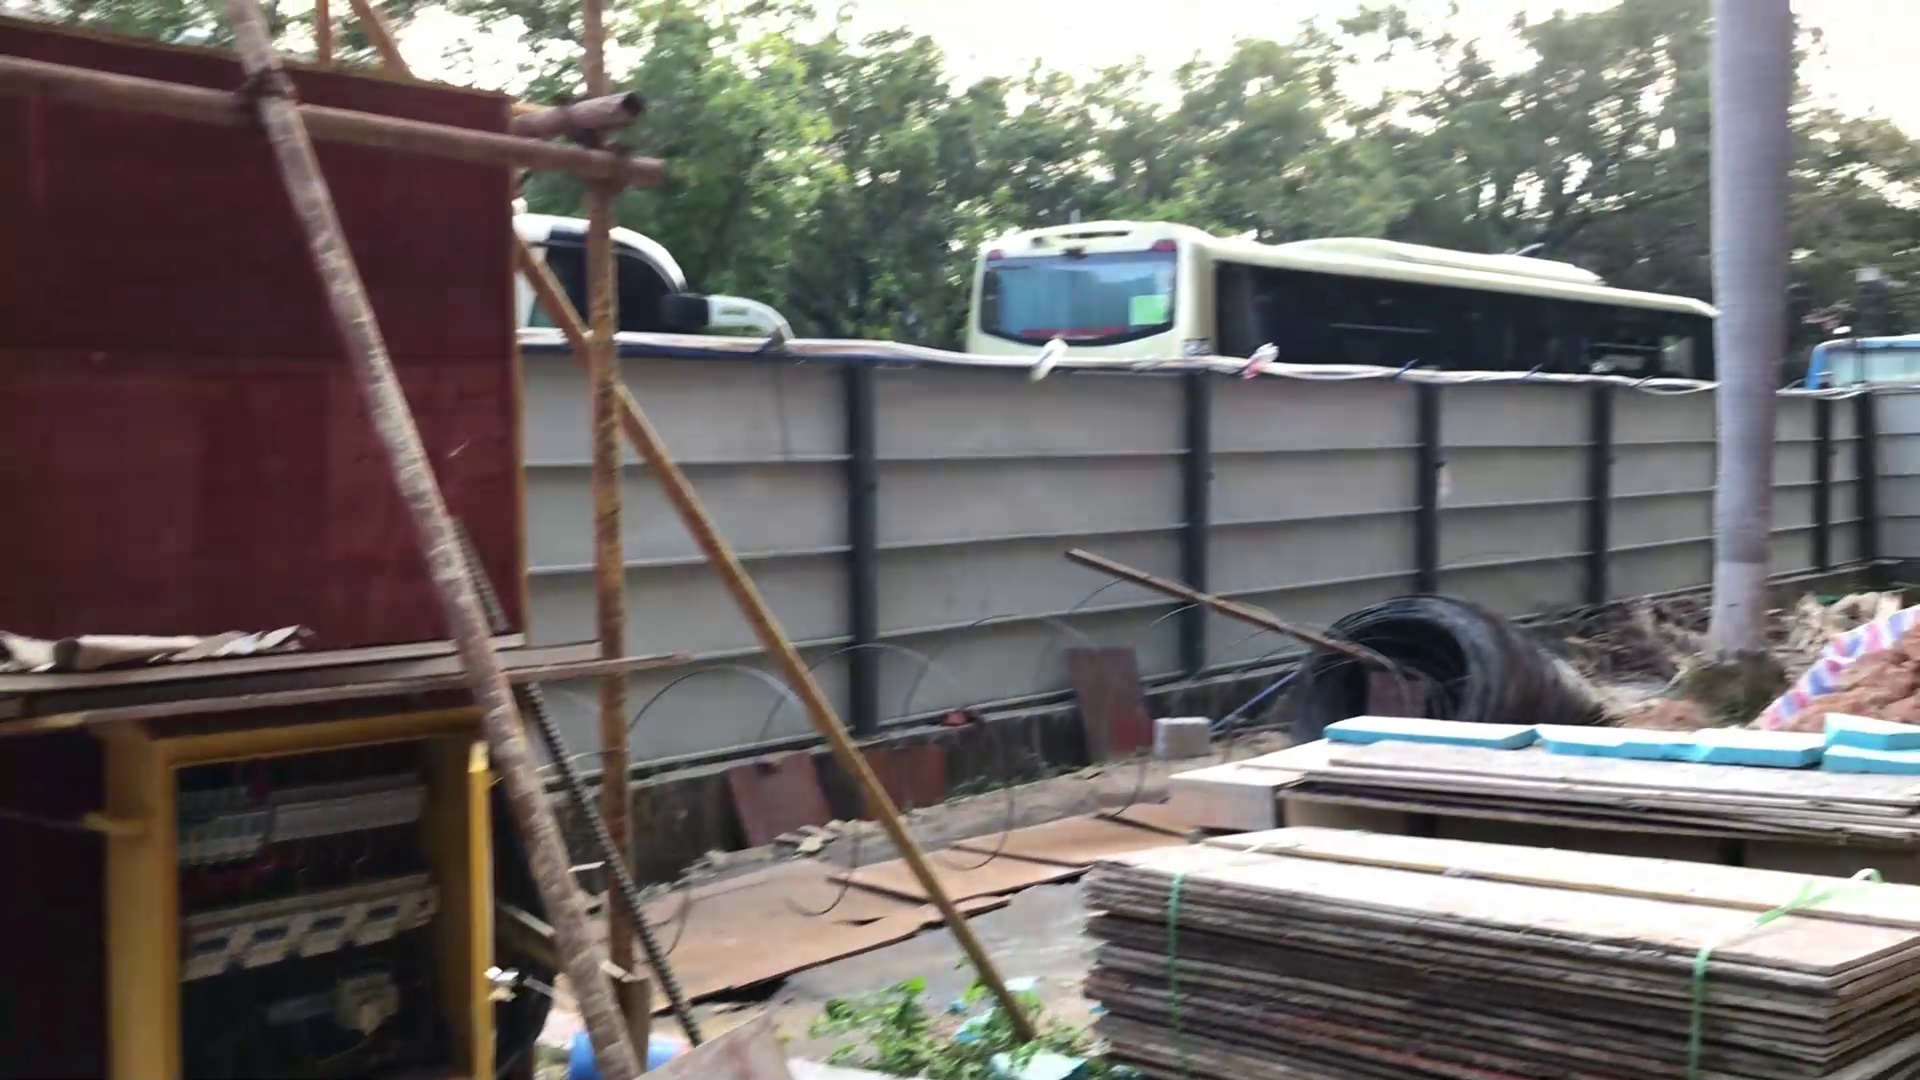board: (1072, 818, 1916, 1080)
ebox: (70, 667, 546, 1080)
